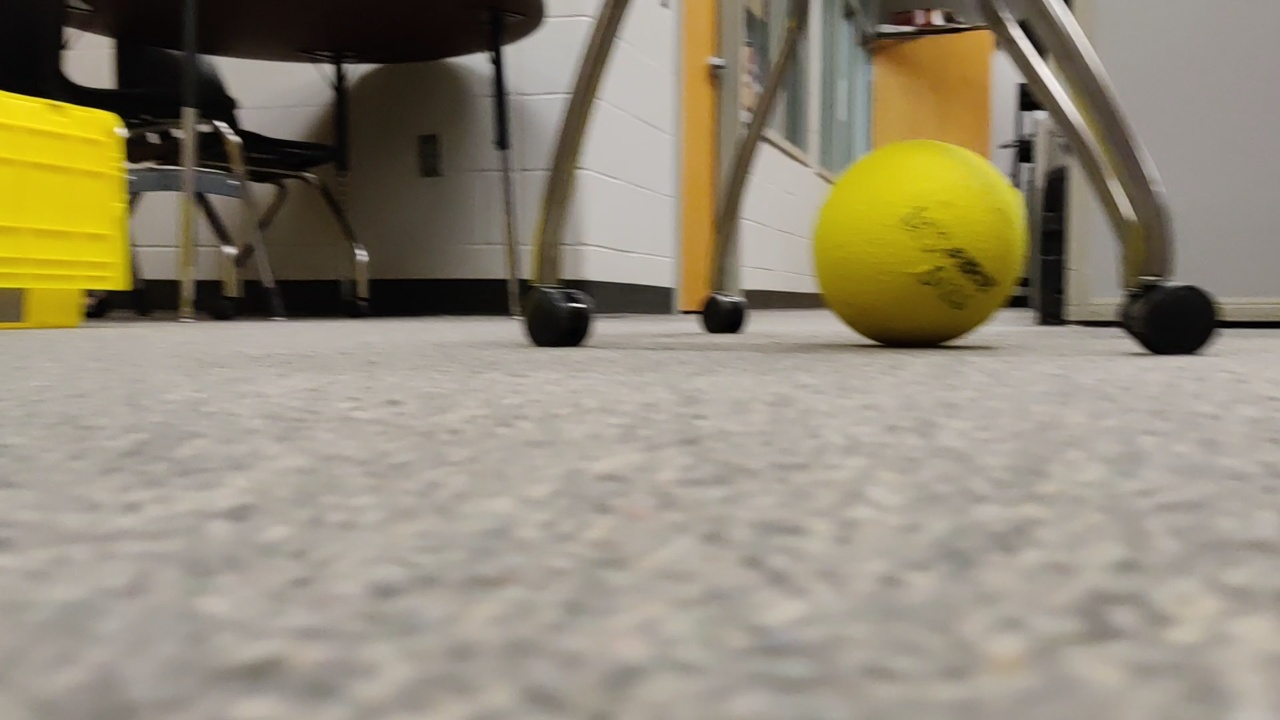Ball: (794, 134, 1042, 361)
